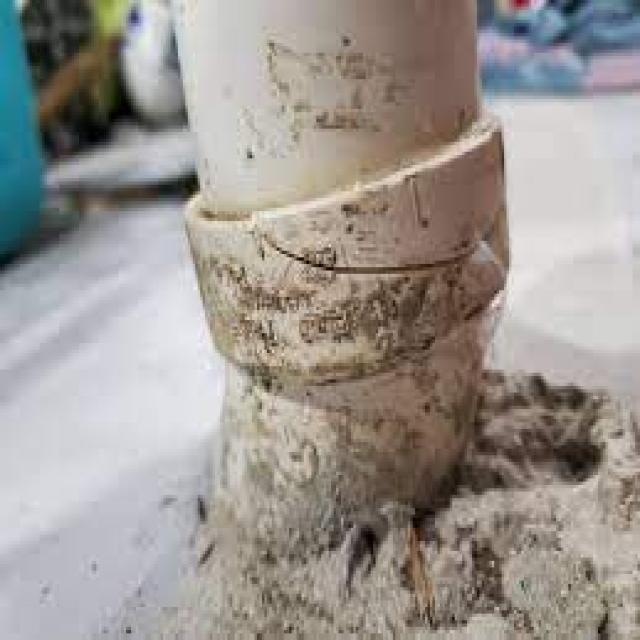crack: (262, 213, 509, 280)
